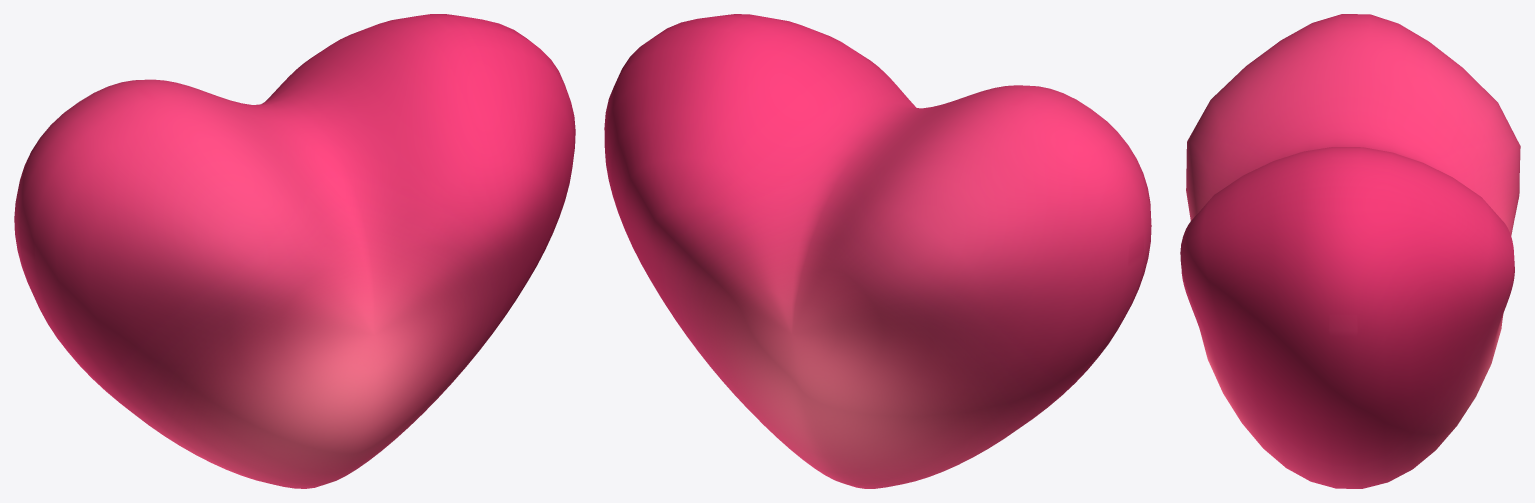
The model's file is heart-crystal-v18-pink.glb.
3 renders of one model, left to right at view 1: azimuth 30°, elevation 25°; view 2: azimuth 150°, elevation 25°; view 3: azimuth 270°, elevation 25°, orthographic. The views are drawn at different scales.
Parts seen in each view (by area): view 1: Heart_Glass; view 2: Heart_Glass; view 3: Heart_Glass.
Part boxes in pixels (bbox=[...]): Heart_Glass: bbox=[14, 14, 575, 488]; Heart_Glass: bbox=[604, 14, 1151, 488]; Heart_Glass: bbox=[1180, 14, 1520, 488].
Size of the model in its own units: 0.0801 by 0.0607 by 0.0479.
Materials: 1 (1 with a texture image).
